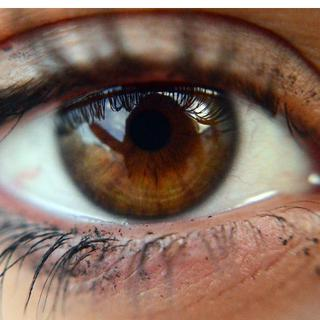pupil: (129, 110, 171, 152)
